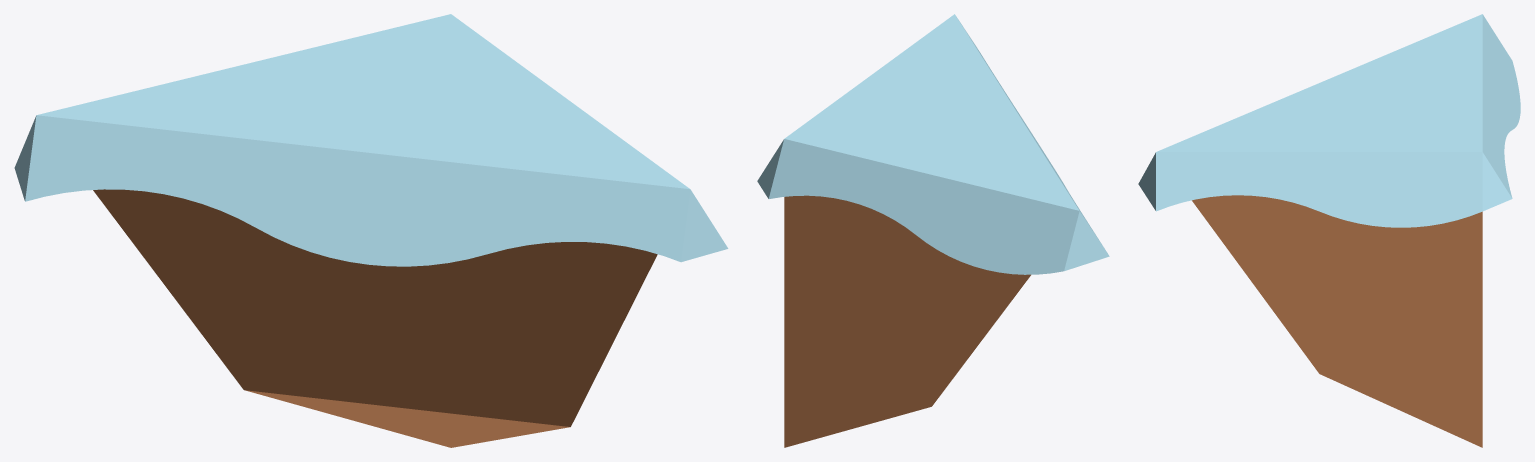
File: blockSnowCliffCorner.obj
The picture shows the model from 3 angles, left to right: view 1: azimuth 30°, elevation 25°; view 2: azimuth 150°, elevation 25°; view 3: azimuth 270°, elevation 25°; orthographic projection. The views are drawn at different scales.
Visible parts, largest first — view 1: blockSnowCliffCorner; view 2: blockSnowCliffCorner; view 3: blockSnowCliffCorner.
Part boxes in pixels (x1=…): blockSnowCliffCorner: x1=14, y1=14, x2=728, y2=447; blockSnowCliffCorner: x1=757, y1=14, x2=1109, y2=447; blockSnowCliffCorner: x1=1138, y1=14, x2=1520, y2=447.
Size of the model in its own units: 1.18 by 1 by 1.17.
